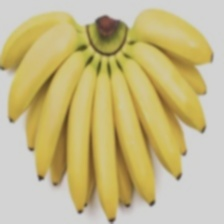banana: (30, 40, 188, 189)
